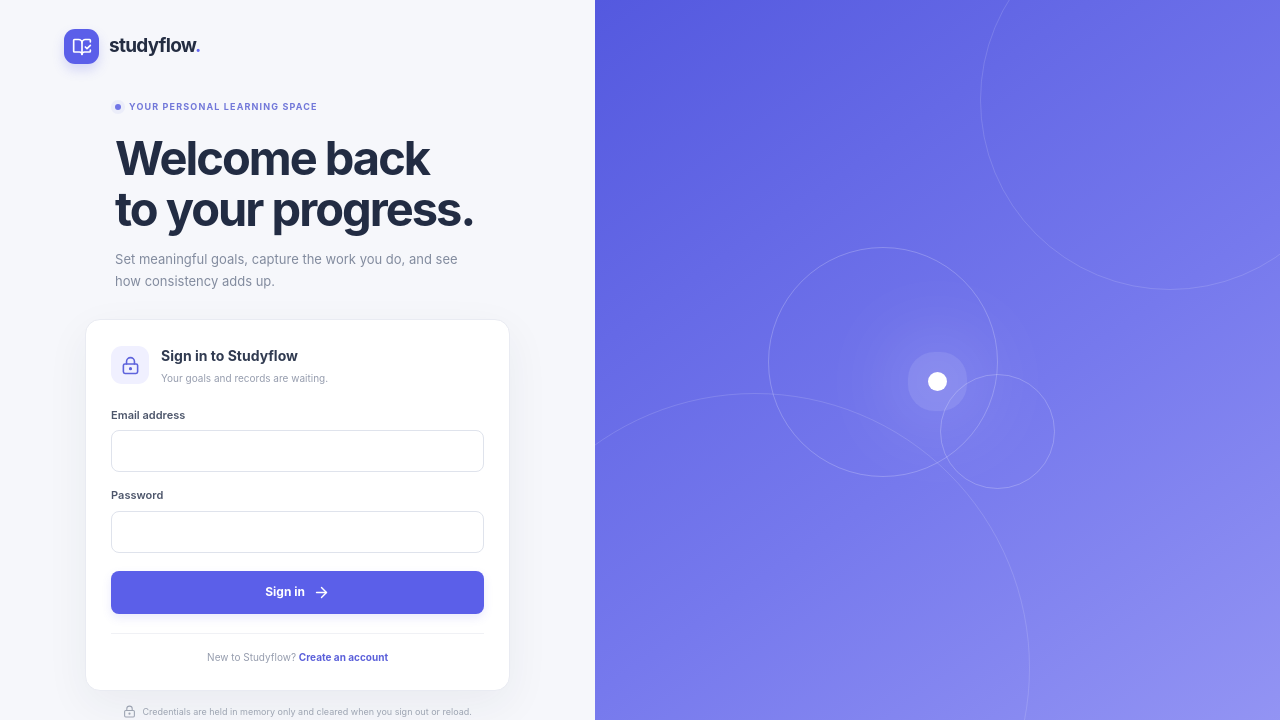
Test: registration page › navigates from sign-in to account registration
Click the link "Create an account" at (344, 657), box [299,651,388,663]
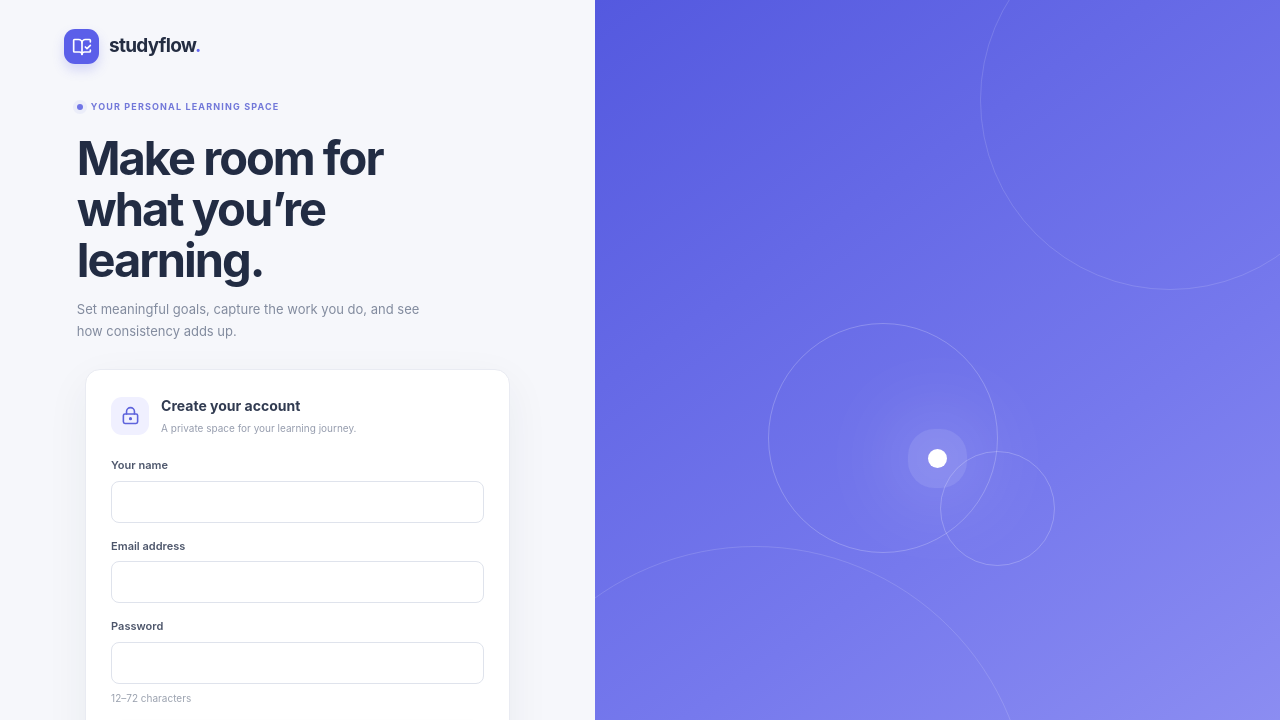
Expected: the heading "Create your account" is shown, [161,397,300,414]
